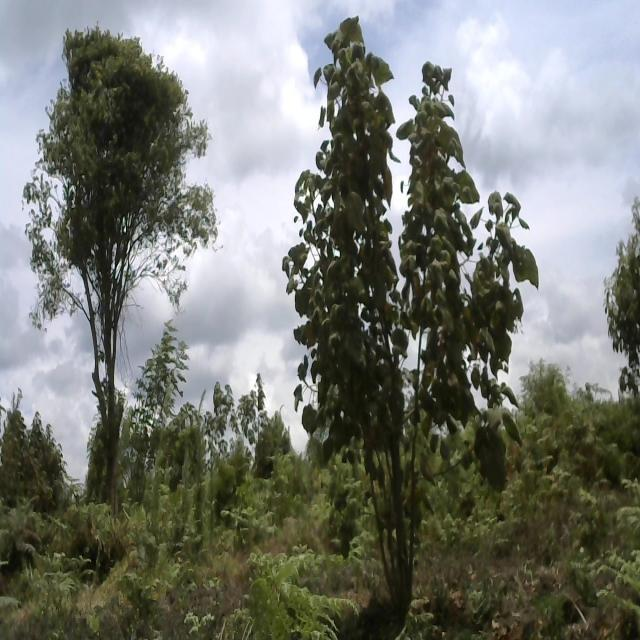Vitex keniensis: (289, 13, 546, 563)
